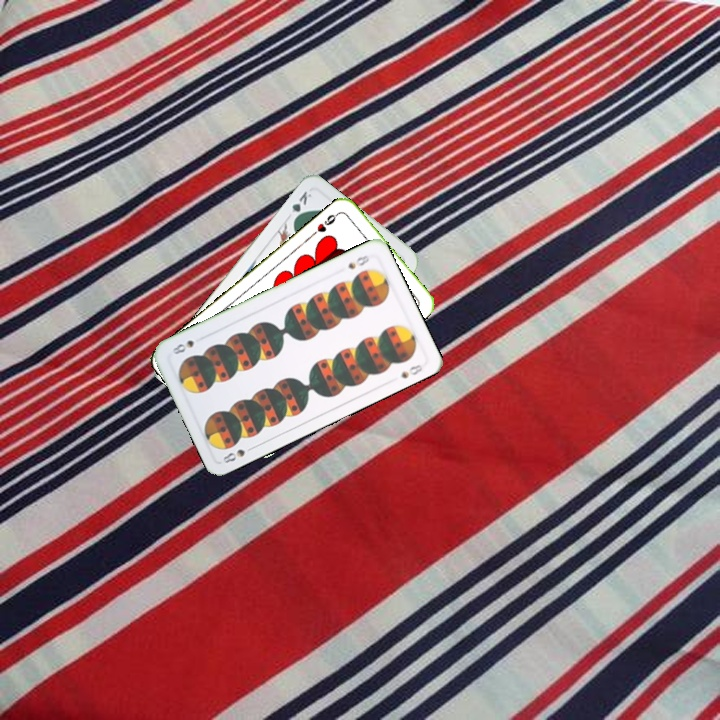GK: (283, 187, 314, 224)
H9: (313, 208, 342, 235)
S8: (219, 442, 257, 466), (344, 250, 374, 272)
